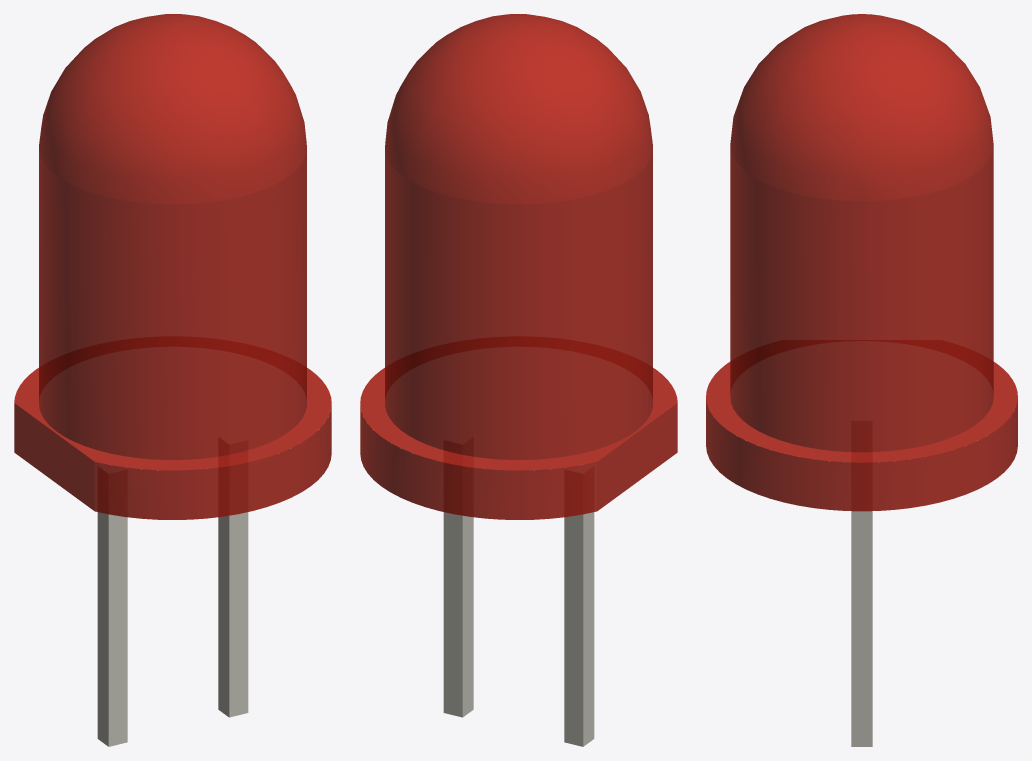
The model's file is led-5mm.glb.
3 views of the same model, side by side, from view 1: azimuth 30°, elevation 25°; view 2: azimuth 150°, elevation 25°; view 3: azimuth 270°, elevation 25° (orthographic).
Visible parts, largest first — view 1: led-5mm; view 2: led-5mm; view 3: led-5mm.
Part boxes in pixels (bbox=[...]): led-5mm: bbox=[14, 14, 331, 746]; led-5mm: bbox=[360, 14, 677, 746]; led-5mm: bbox=[706, 14, 1017, 746].
Bounding box in the file's own units: 5.4 × 14.1 × 5.8.
